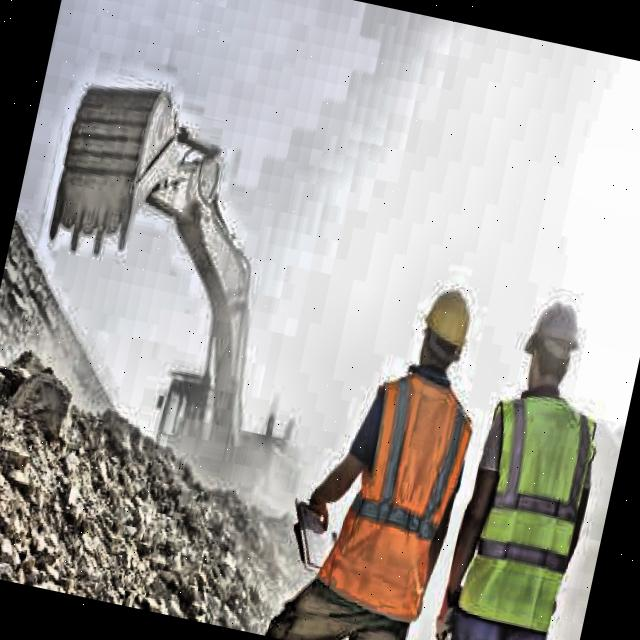helmet: (511, 283, 594, 406), (408, 270, 484, 388)
